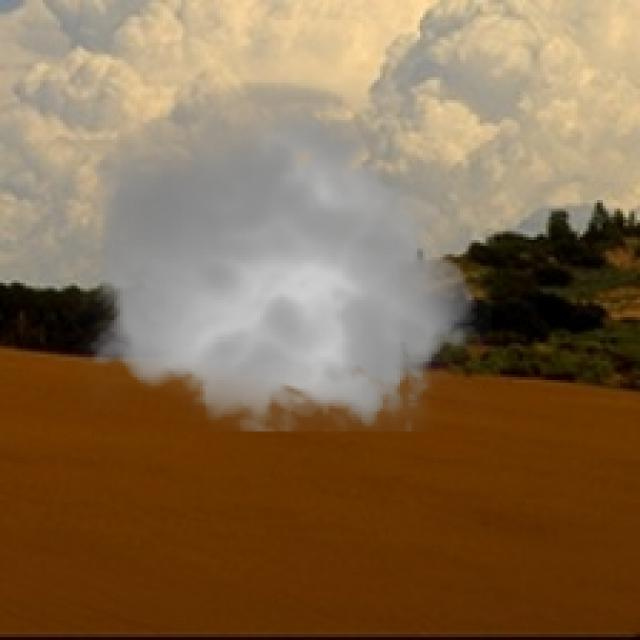smoke: (71, 69, 492, 448)
